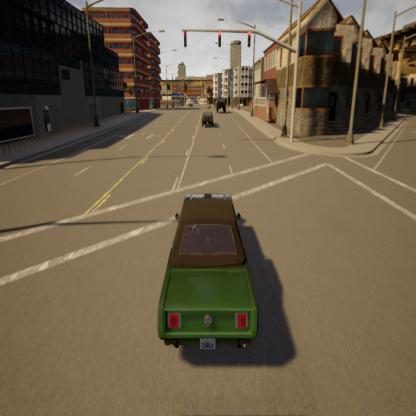Cars: (154, 189, 260, 359), (200, 106, 214, 131), (216, 96, 227, 112)
